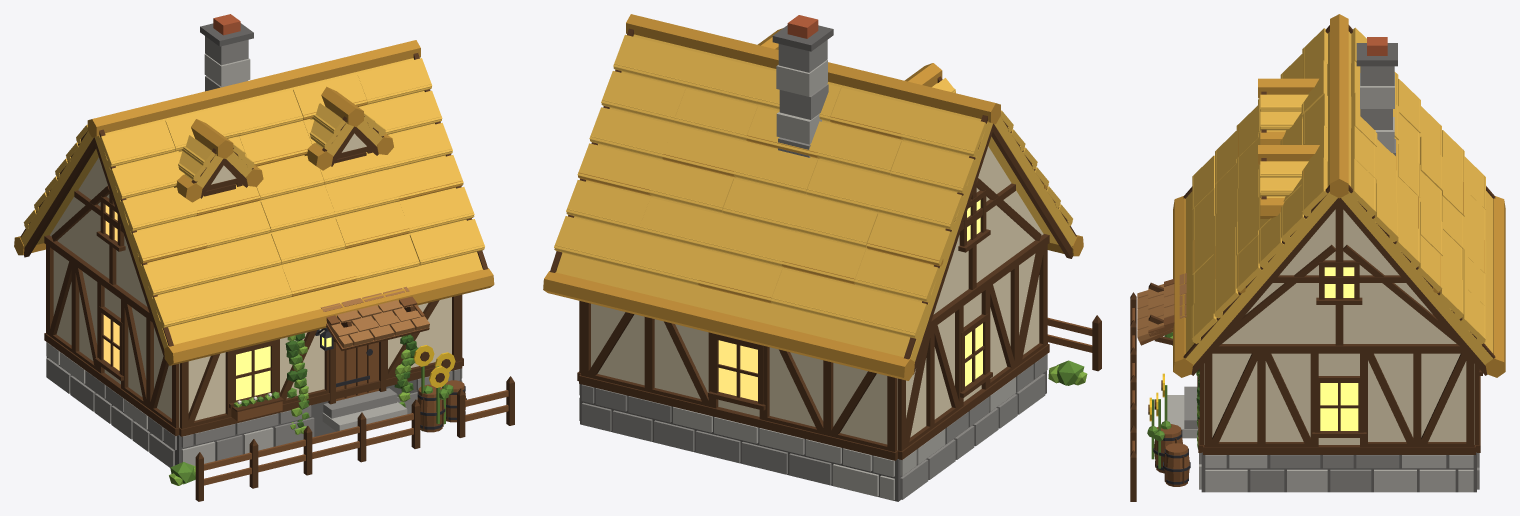
The model's file is Cottage_07_Sunflower.fbx.
The picture shows the model from 3 angles, left to right: view 1: azimuth 30°, elevation 25°; view 2: azimuth 150°, elevation 25°; view 3: azimuth 270°, elevation 25°; orthographic projection. The views are drawn at different scales.
Visible parts, largest first — view 1: Cottage_07_Sunflower_LOD0; view 2: Cottage_07_Sunflower_LOD0; view 3: Cottage_07_Sunflower_LOD0.
Part boxes in pixels (left/top/right/bottom): Cottage_07_Sunflower_LOD0: left=14, top=14, right=514, bottom=501; Cottage_07_Sunflower_LOD0: left=543, top=14, right=1101, bottom=501; Cottage_07_Sunflower_LOD0: left=1130, top=14, right=1505, bottom=501.
Size of what is drawn, in the model's own units: 7.2 by 7.64 by 6.93.
